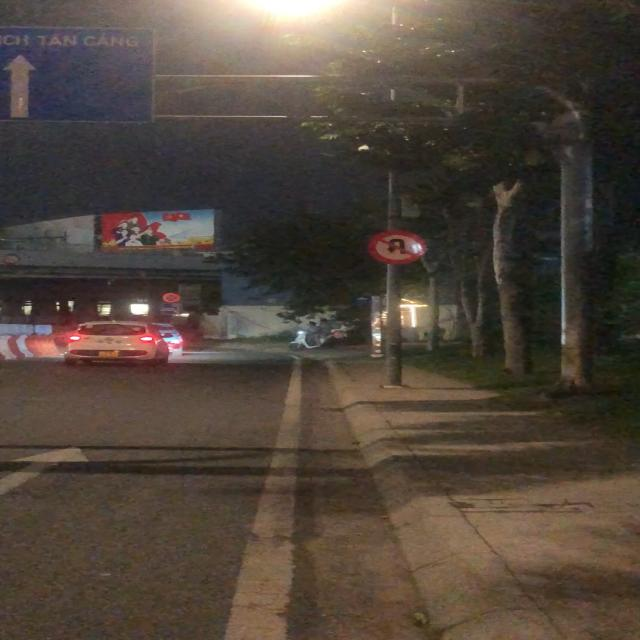Bien bao cam quay dau xe: (366, 227, 429, 267)
